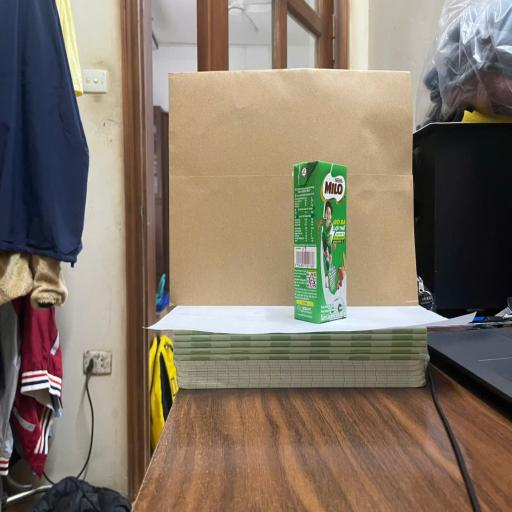milo: (293, 160, 346, 324)
